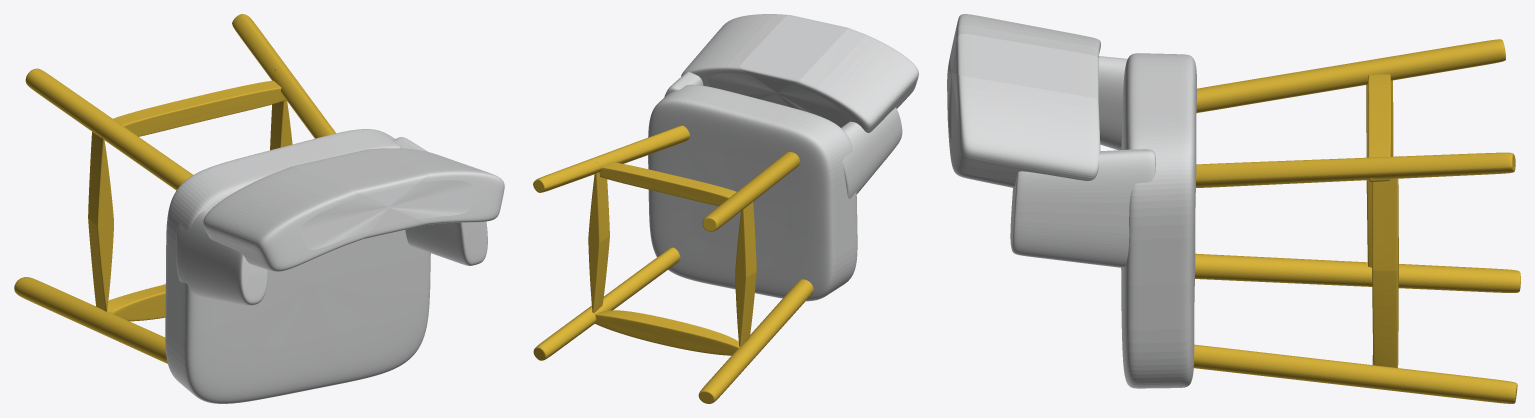
Rendered from 02_a_bar_chair_sq.glb.
3 views of the same model, side by side, from view 1: azimuth 30°, elevation 25°; view 2: azimuth 150°, elevation 25°; view 3: azimuth 270°, elevation 25° (orthographic). The views are drawn at different scales.
Visible parts, largest first — view 1: superquadric_0, superquadric_1, superquadric_5, superquadric_4, superquadric_9, superquadric_3, superquadric_10, superquadric_6, superquadric_7, superquadric_8, superquadric_11; view 2: superquadric_0, superquadric_1, superquadric_8, superquadric_3, superquadric_5, superquadric_2, superquadric_6, superquadric_9, superquadric_10, superquadric_11, superquadric_4, superquadric_7; view 3: superquadric_1, superquadric_0, superquadric_7, superquadric_2, superquadric_4, superquadric_3, superquadric_6, superquadric_11, superquadric_5, superquadric_9, superquadric_10.
Part boxes in pixels (x1,y1,x2,y2): superquadric_0: (165,129,430,403); superquadric_1: (203,148,504,271); superquadric_5: (176,210,267,305); superquadric_4: (25,68,192,190); superquadric_9: (113,80,285,136); superquadric_3: (14,277,167,363); superquadric_10: (88,132,113,311); superquadric_6: (232,14,335,138); superquadric_7: (393,137,487,265); superquadric_8: (95,284,165,321); superquadric_11: (270,69,292,150); superquadric_0: (648,84,857,301); superquadric_1: (681,14,918,132); superquadric_8: (595,310,739,355); superquadric_3: (698,279,813,403); superquadric_5: (841,107,902,198); superquadric_2: (533,247,680,360); superquadric_6: (533,125,689,192); superquadric_9: (599,162,736,206); superquadric_10: (735,202,756,346); superquadric_11: (588,162,609,313); superquadric_4: (702,152,799,231); superquadric_7: (664,71,703,97); superquadric_1: (947,14,1100,187); superquadric_0: (1121,53,1196,388); superquadric_7: (1010,149,1155,268); superquadric_2: (1193,344,1517,403); superquadric_4: (1196,39,1505,112); superquadric_3: (1195,253,1520,292); superquadric_6: (1196,152,1515,187); superquadric_11: (1372,156,1398,367); superquadric_5: (1098,56,1127,150); superquadric_9: (1368,74,1391,182); superquadric_10: (1366,80,1393,267).
Bounding box in the file's own units: 0.5537 × 0.5723 × 1.
